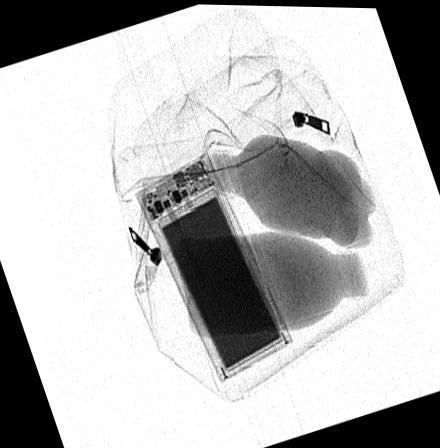Powerbank: (133, 148, 293, 382)
